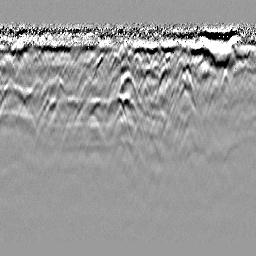cavity: (115, 69, 139, 106)
